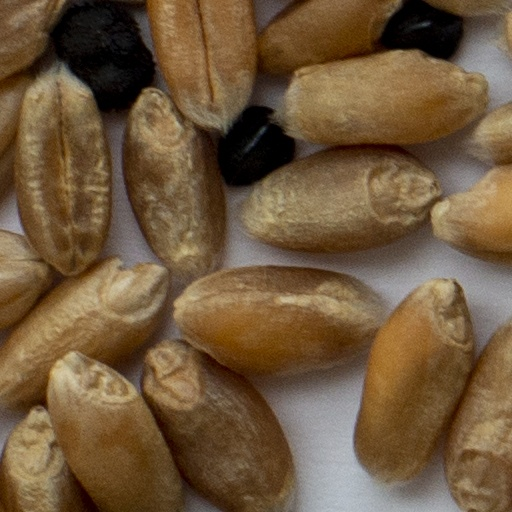Agrostemma-poly: (50, 0, 153, 107)
Fallopia-Convolvulus-poly: (219, 106, 292, 182), (381, 1, 461, 56)
